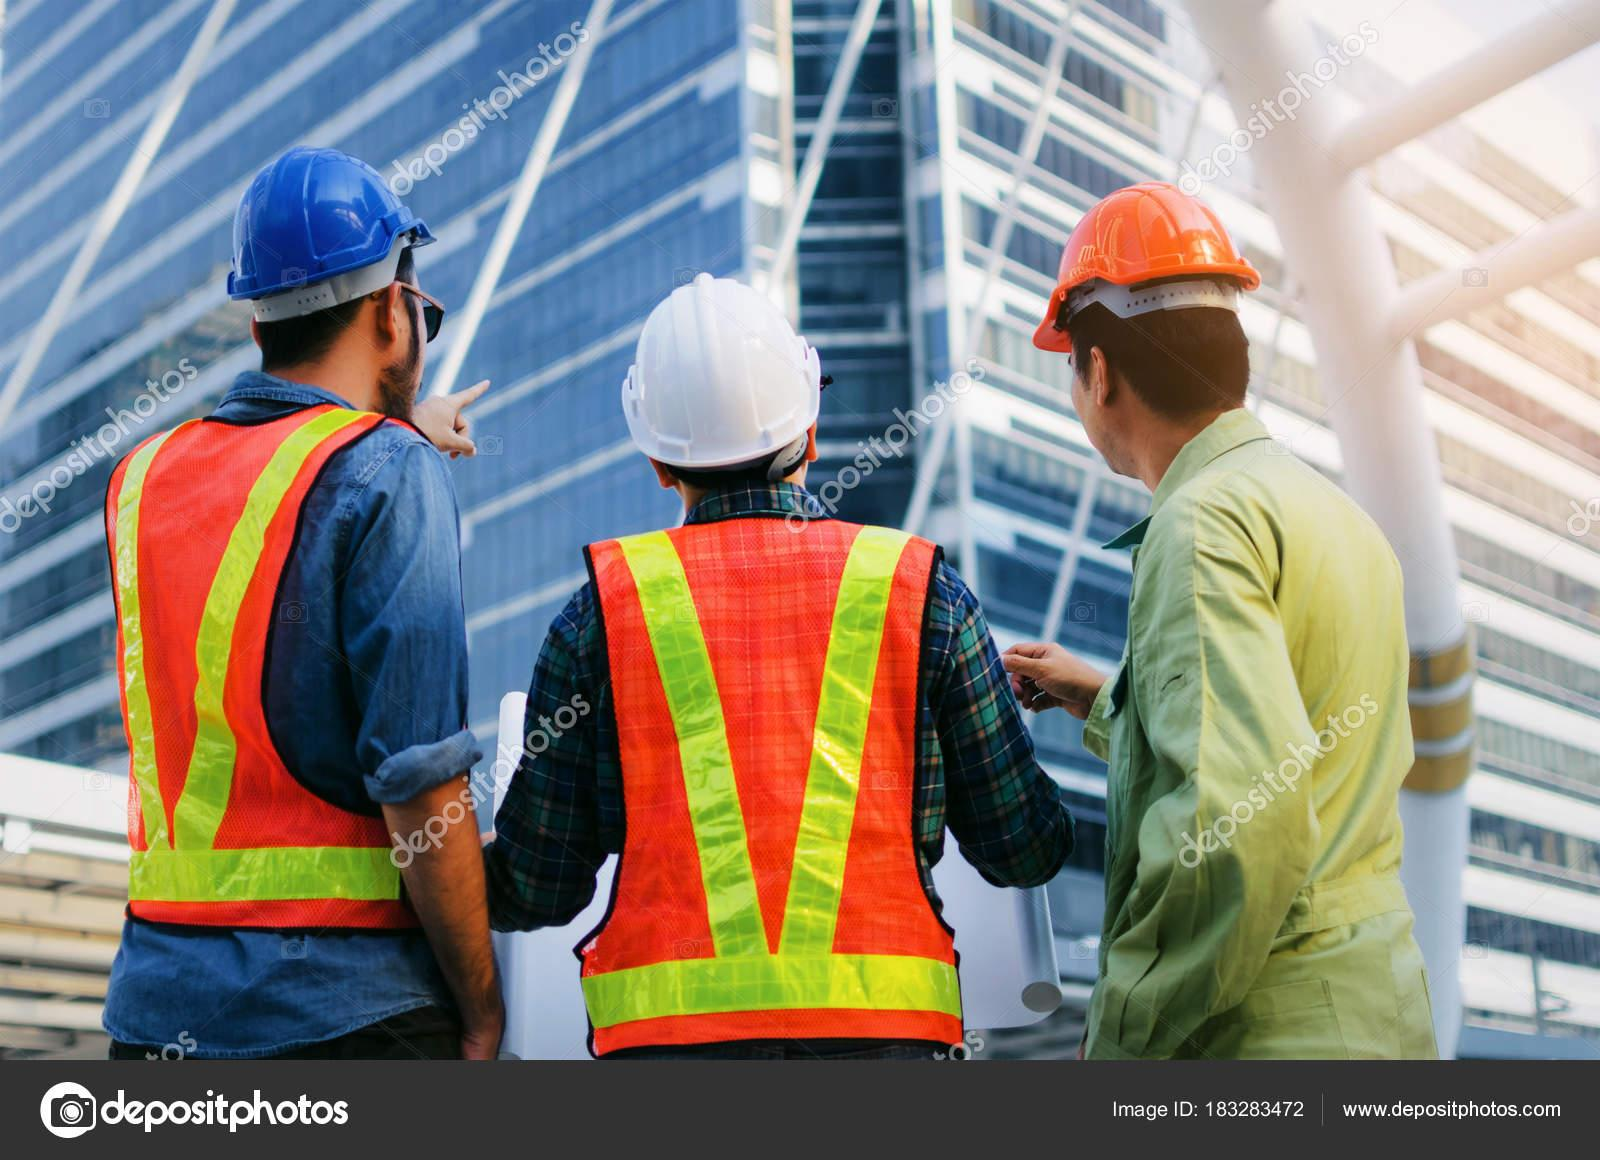helmet: (629, 283, 830, 476), (1036, 178, 1263, 335), (224, 147, 429, 296)
